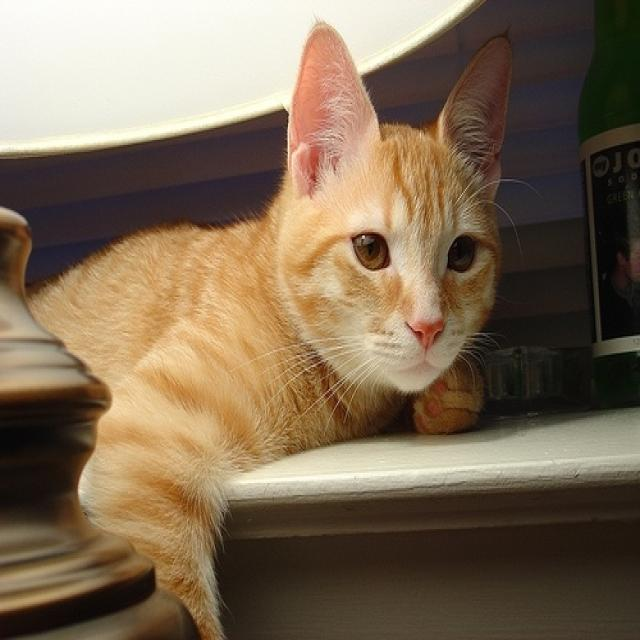cat: (31, 24, 511, 638)
